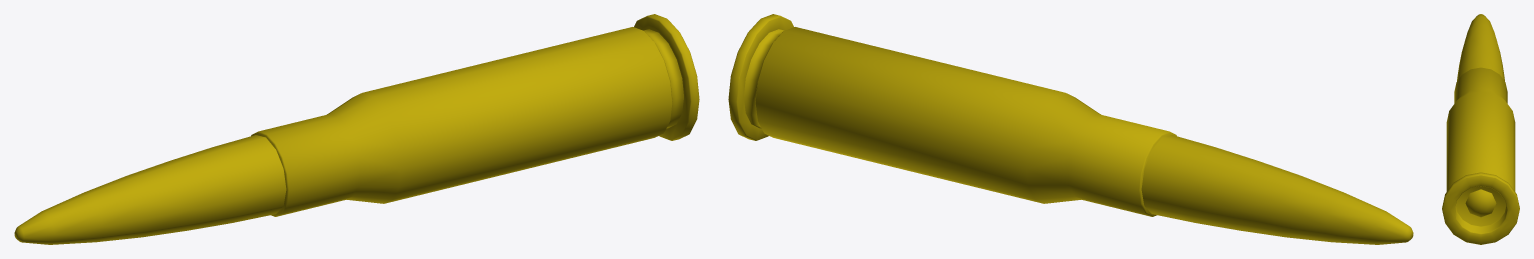
The model's file is Sniperammo.fbx.
3 renders of one model, left to right at view 1: azimuth 30°, elevation 25°; view 2: azimuth 150°, elevation 25°; view 3: azimuth 270°, elevation 25°, orthographic. The views are drawn at different scales.
Visible parts, largest first — view 1: Bullet; view 2: Bullet; view 3: Bullet.
Part boxes in pixels (x1,y1,x2,y2): Bullet: (14, 14, 699, 244); Bullet: (728, 14, 1413, 244); Bullet: (1442, 14, 1519, 244).
Size of the model in its own units: 11.29 by 1.92 by 1.92.
